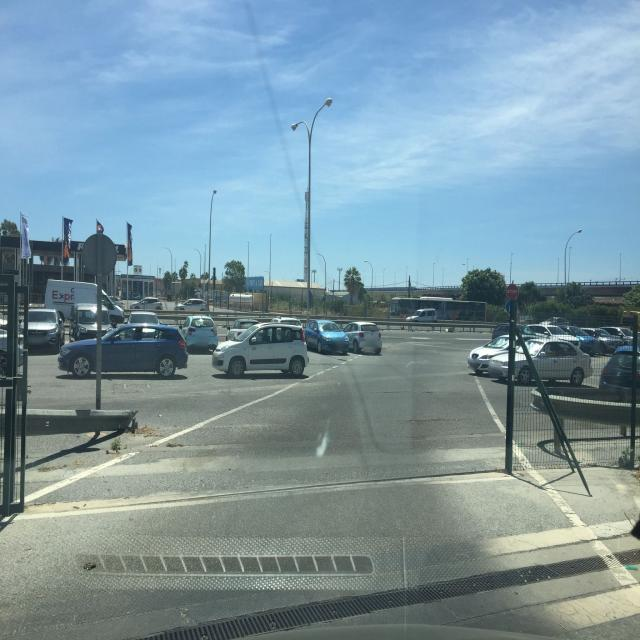car: (56, 323, 188, 378), (212, 323, 308, 378), (485, 338, 588, 387), (468, 334, 532, 374), (599, 350, 640, 404), (21, 307, 65, 353), (304, 320, 349, 356), (70, 306, 108, 341), (343, 322, 382, 356), (182, 316, 218, 352), (130, 311, 160, 326), (272, 316, 303, 330), (133, 296, 163, 310), (182, 298, 206, 312)
